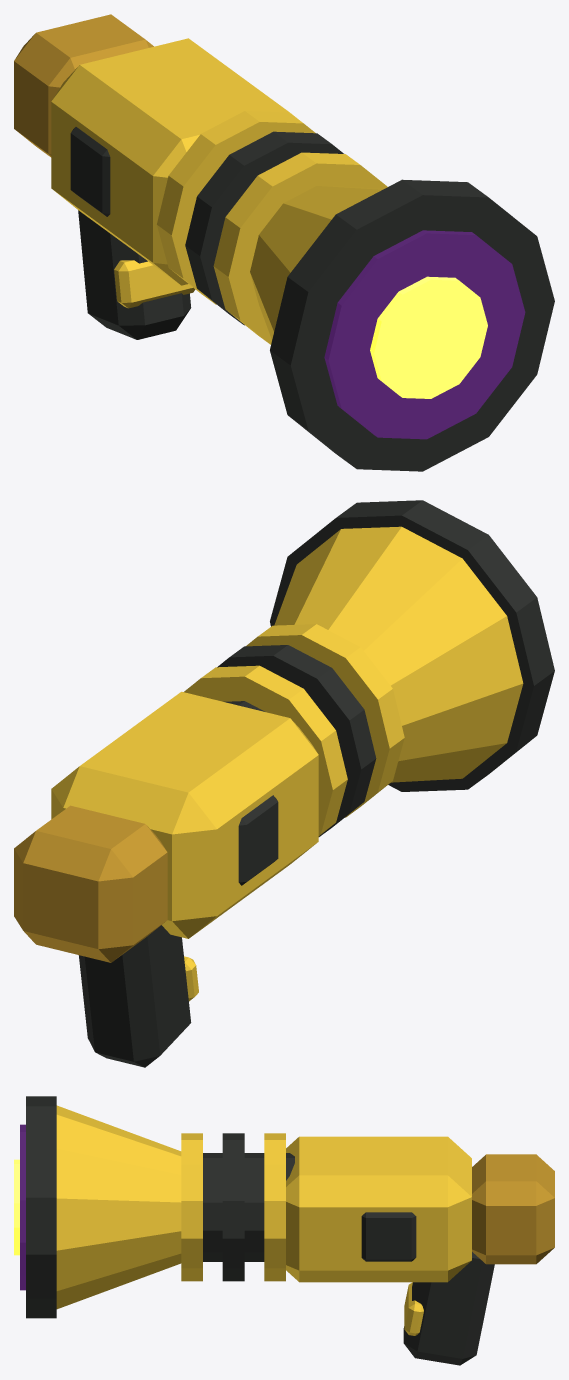
File: Eater.glb
3 renders of one model, top to bottom at view 1: azimuth 30°, elevation 25°; view 2: azimuth 150°, elevation 25°; view 3: azimuth 270°, elevation 25°, orthographic. The views are drawn at different scales.
Parts seen in each view (by area): view 1: AbsorptionGun_IntakeRim, AbsorptionGun_MainBody, AbsorptionGun_DarkCore, AbsorptionGun_CoreRing, AbsorptionGun_FieldCoil_03, AbsorptionGun_RearBattery, AbsorptionGun_FieldCoil_01, AbsorptionGun_FieldCoil_02, AbsorptionGun_IntakeFunnel, AbsorptionGun_Grip, AbsorptionGun_BlackShell, AbsorptionGun_GripAccent; view 2: AbsorptionGun_IntakeFunnel, AbsorptionGun_MainBody, AbsorptionGun_RearBattery, AbsorptionGun_IntakeRim, AbsorptionGun_Grip, AbsorptionGun_FieldCoil_01, AbsorptionGun_FieldCoil_03, AbsorptionGun_FieldCoil_02, AbsorptionGun_BlackShell; view 3: AbsorptionGun_MainBody, AbsorptionGun_IntakeFunnel, AbsorptionGun_RearBattery, AbsorptionGun_IntakeRim, AbsorptionGun_Grip, AbsorptionGun_FieldTube, AbsorptionGun_FieldCoil_02, AbsorptionGun_FieldCoil_01, AbsorptionGun_FieldCoil_03, AbsorptionGun_BlackShell, AbsorptionGun_DarkCore, AbsorptionGun_GripAccent (+1 smaller).
Part boxes in pixels (bbox=[...]): AbsorptionGun_IntakeRim: bbox=[270, 179, 554, 471]; AbsorptionGun_MainBody: bbox=[51, 38, 299, 285]; AbsorptionGun_DarkCore: bbox=[324, 230, 525, 439]; AbsorptionGun_CoreRing: bbox=[370, 276, 487, 398]; AbsorptionGun_FieldCoil_03: bbox=[213, 152, 387, 344]; AbsorptionGun_RearBattery: bbox=[14, 14, 153, 157]; AbsorptionGun_FieldCoil_01: bbox=[157, 111, 315, 304]; AbsorptionGun_FieldCoil_02: bbox=[185, 131, 343, 325]; AbsorptionGun_IntakeFunnel: bbox=[250, 186, 383, 339]; AbsorptionGun_Grip: bbox=[78, 210, 191, 339]; AbsorptionGun_BlackShell: bbox=[70, 127, 110, 216]; AbsorptionGun_GripAccent: bbox=[114, 260, 195, 308]; AbsorptionGun_IntakeFunnel: bbox=[274, 526, 523, 782]; AbsorptionGun_MainBody: bbox=[51, 691, 318, 938]; AbsorptionGun_RearBattery: bbox=[14, 805, 167, 962]; AbsorptionGun_IntakeRim: bbox=[270, 500, 554, 791]; AbsorptionGun_Grip: bbox=[78, 925, 191, 1067]; AbsorptionGun_FieldCoil_01: bbox=[184, 665, 347, 835]; AbsorptionGun_FieldCoil_03: bbox=[246, 624, 404, 817]; AbsorptionGun_FieldCoil_02: bbox=[217, 645, 376, 836]; AbsorptionGun_BlackShell: bbox=[238, 795, 278, 885]; AbsorptionGun_MainBody: bbox=[286, 1136, 471, 1282]; AbsorptionGun_IntakeFunnel: bbox=[56, 1105, 181, 1309]; AbsorptionGun_RearBattery: bbox=[472, 1154, 554, 1264]; AbsorptionGun_IntakeRim: bbox=[26, 1096, 56, 1318]; AbsorptionGun_Grip: bbox=[403, 1252, 494, 1365]; AbsorptionGun_FieldTube: bbox=[203, 1153, 294, 1261]; AbsorptionGun_FieldCoil_02: bbox=[222, 1133, 244, 1281]; AbsorptionGun_FieldCoil_01: bbox=[264, 1133, 285, 1281]; AbsorptionGun_FieldCoil_03: bbox=[181, 1133, 202, 1281]; AbsorptionGun_BlackShell: bbox=[361, 1212, 416, 1261]; AbsorptionGun_DarkCore: bbox=[20, 1124, 25, 1290]; AbsorptionGun_GripAccent: bbox=[404, 1282, 423, 1335].
Size of the model in its own units: 1.02 by 1.27 by 2.47.
